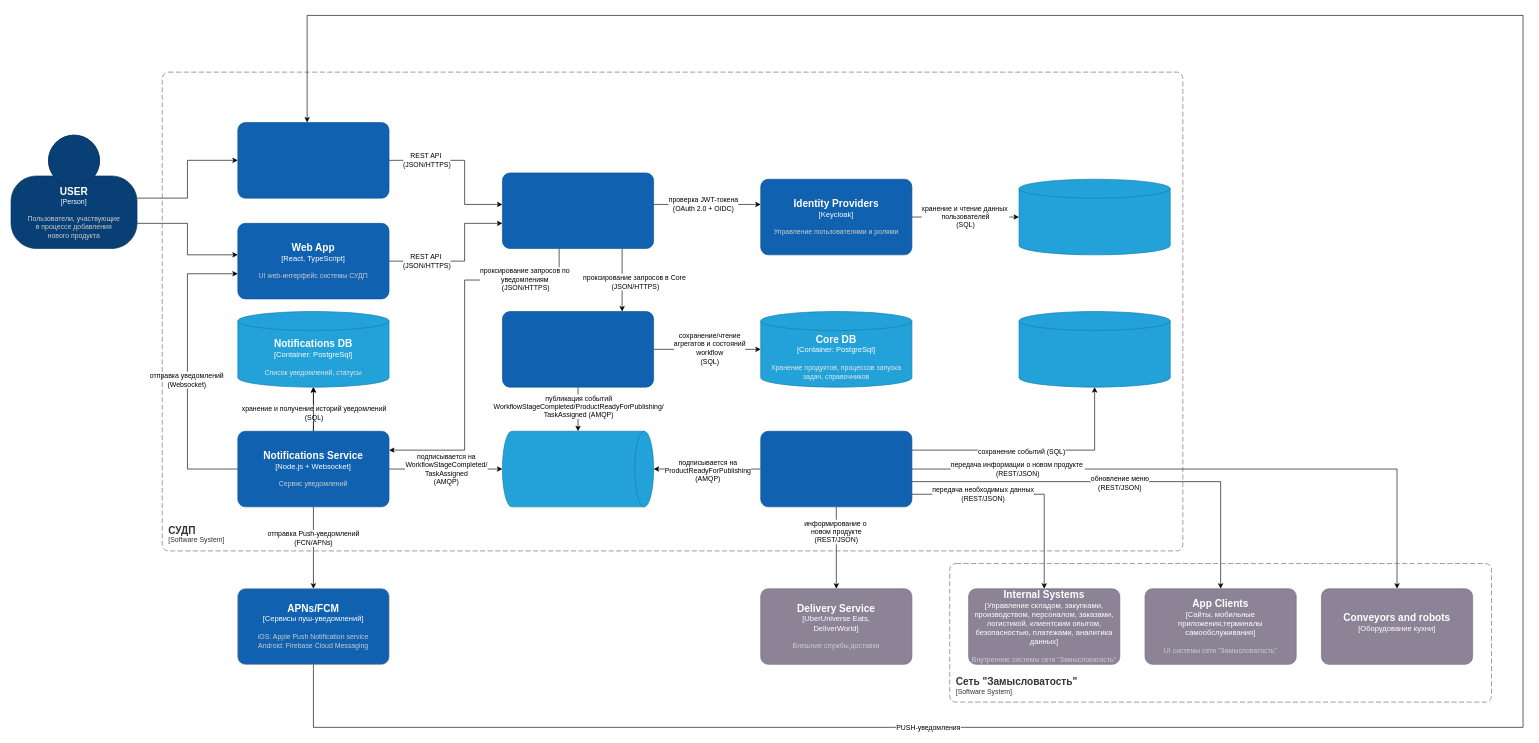
Image size: 1539x743. Some labels were removed from this diagram. The shapes that lost their labels are listed below. From the top down, each one's centre as x and y in pixels, then its label:
At point 313,160: "Mobile App [Swift/Kotlin] Мобильное приложение для системы СУДП".
At point 578,210: "Api Gateway [NGINX] Маршрутизация запросов".
At point 1094,217: "Person DB [Container: PostgreSql] Пользователи, роли".
At point 578,349: "Core Backend Service [Java] Ядро системы".
At point 1094,349: "Integration DB [Container: PostgreSql] Хранение событий и статусов отправки".
At point 578,469: "Message Broker [Container: RabbitMQ] События о новом продукте".
At point 836,469: "Integration Service [Java] Сервис интеграций".
